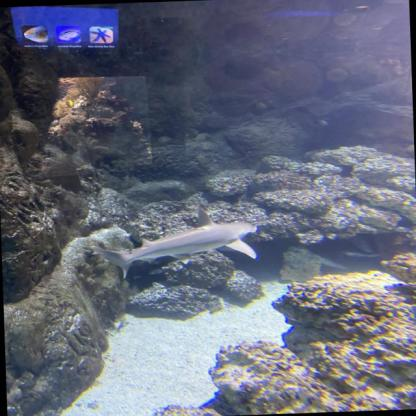shark: (89, 206, 257, 280)
